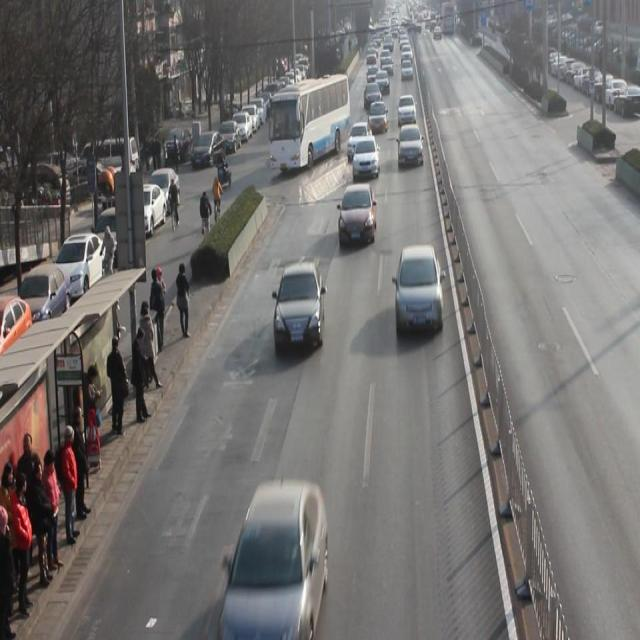car: (222, 481, 329, 640), (274, 263, 326, 354), (395, 247, 444, 336), (339, 185, 378, 249), (398, 124, 425, 170), (353, 137, 380, 181), (348, 122, 375, 161), (397, 95, 418, 130), (368, 100, 388, 135)
van: (270, 76, 349, 171)
